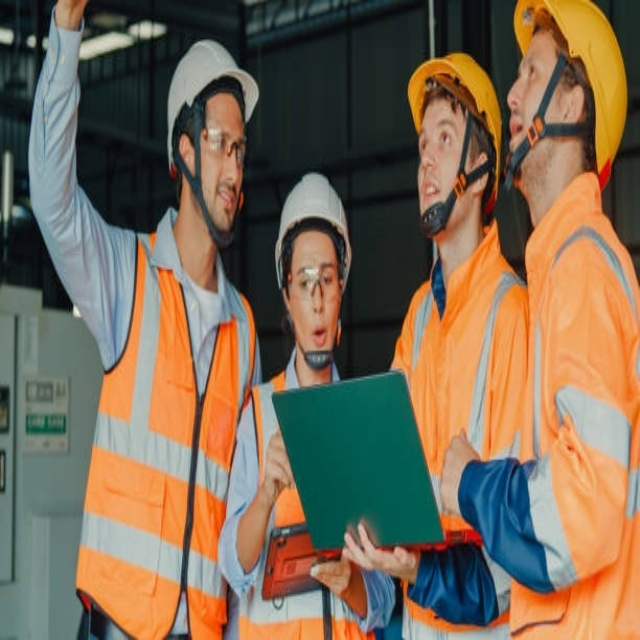Gafas: (197, 119, 247, 168), (285, 262, 345, 297)
Sin_gafas: (419, 111, 457, 155), (515, 46, 550, 85)
Sin_guantes: (340, 518, 417, 591), (439, 426, 481, 514), (260, 425, 297, 502), (305, 553, 356, 604)
Sin_mascara: (508, 105, 528, 145), (215, 178, 234, 220), (306, 319, 330, 351), (421, 178, 444, 202)
